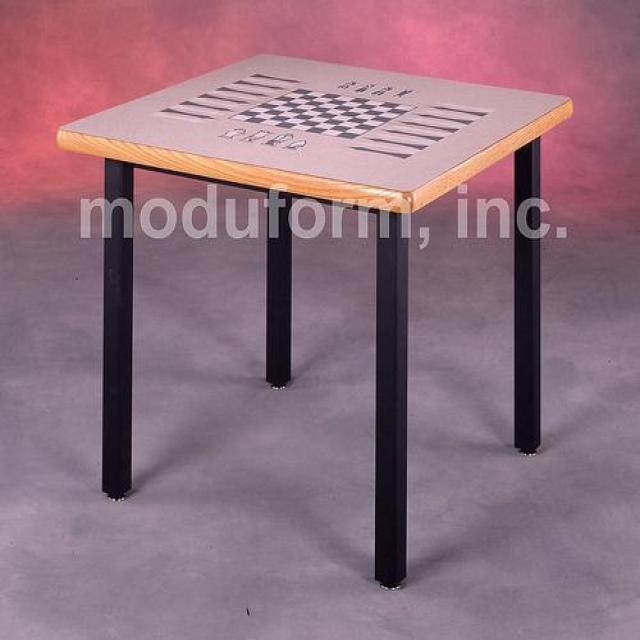Table: (26, 24, 605, 618)
